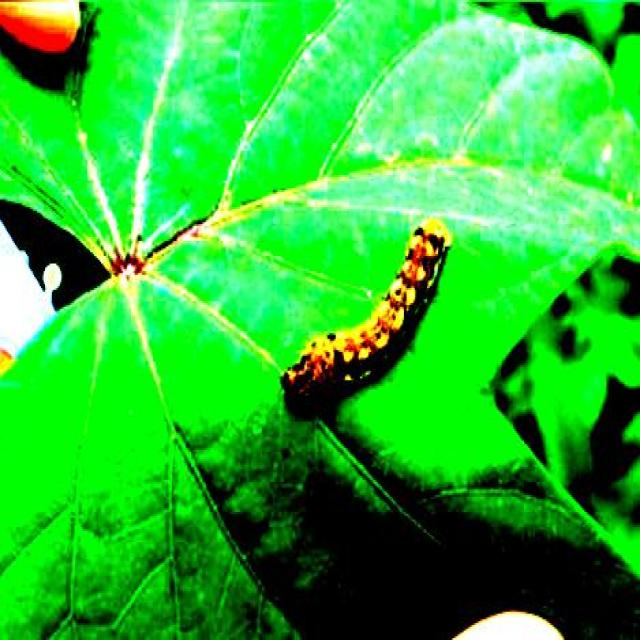Armyworm: (262, 156, 477, 502)
